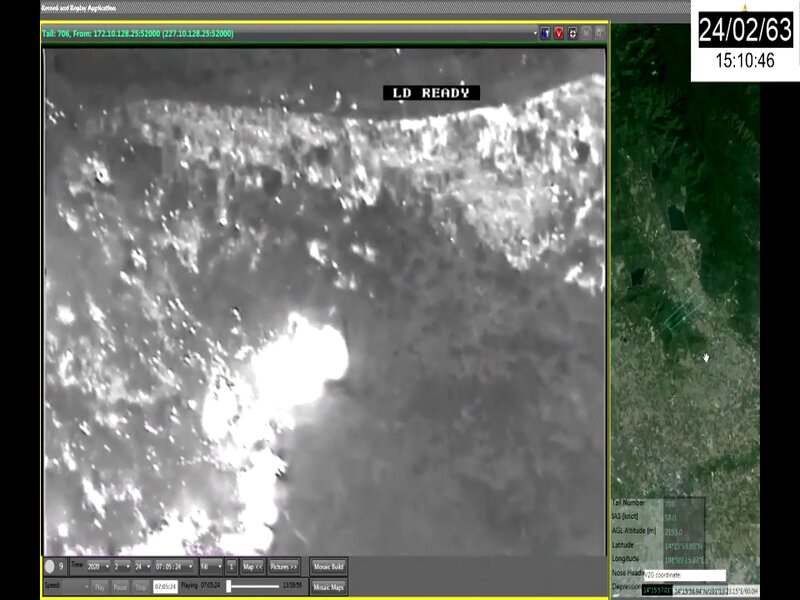Fire: (111, 303, 350, 552)
